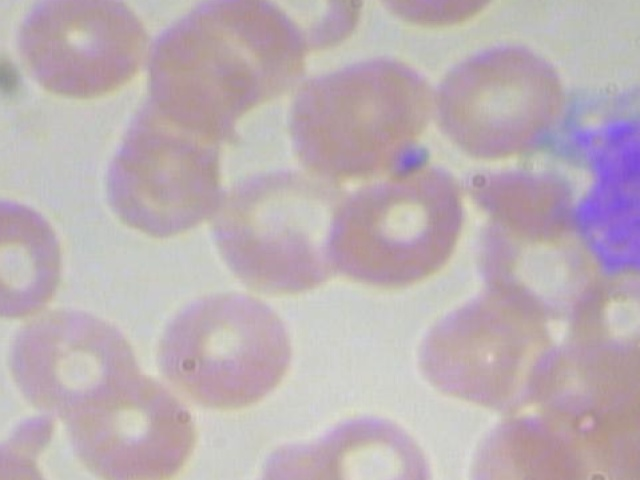RBC: (321, 156, 475, 286), (151, 286, 304, 416), (433, 33, 575, 160), (5, 303, 146, 420), (4, 0, 159, 103), (63, 369, 204, 480), (451, 404, 594, 480), (296, 406, 439, 480), (0, 188, 78, 323)
WBC: (521, 52, 640, 338)
